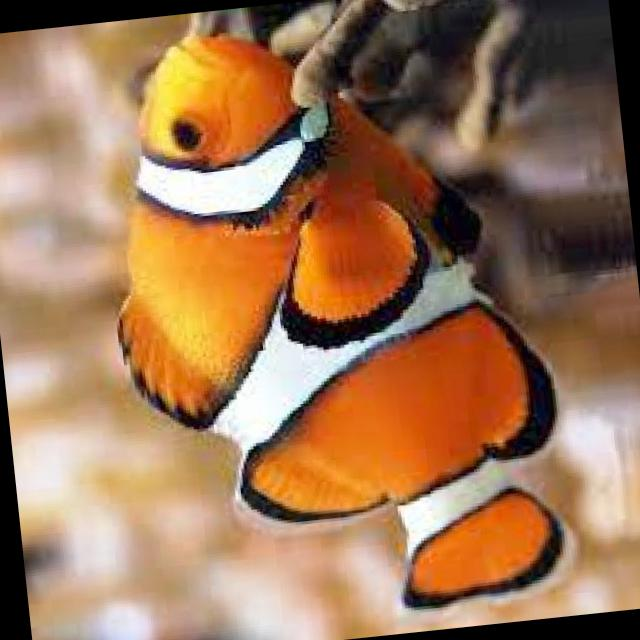ClownFish: (69, 0, 595, 640)
